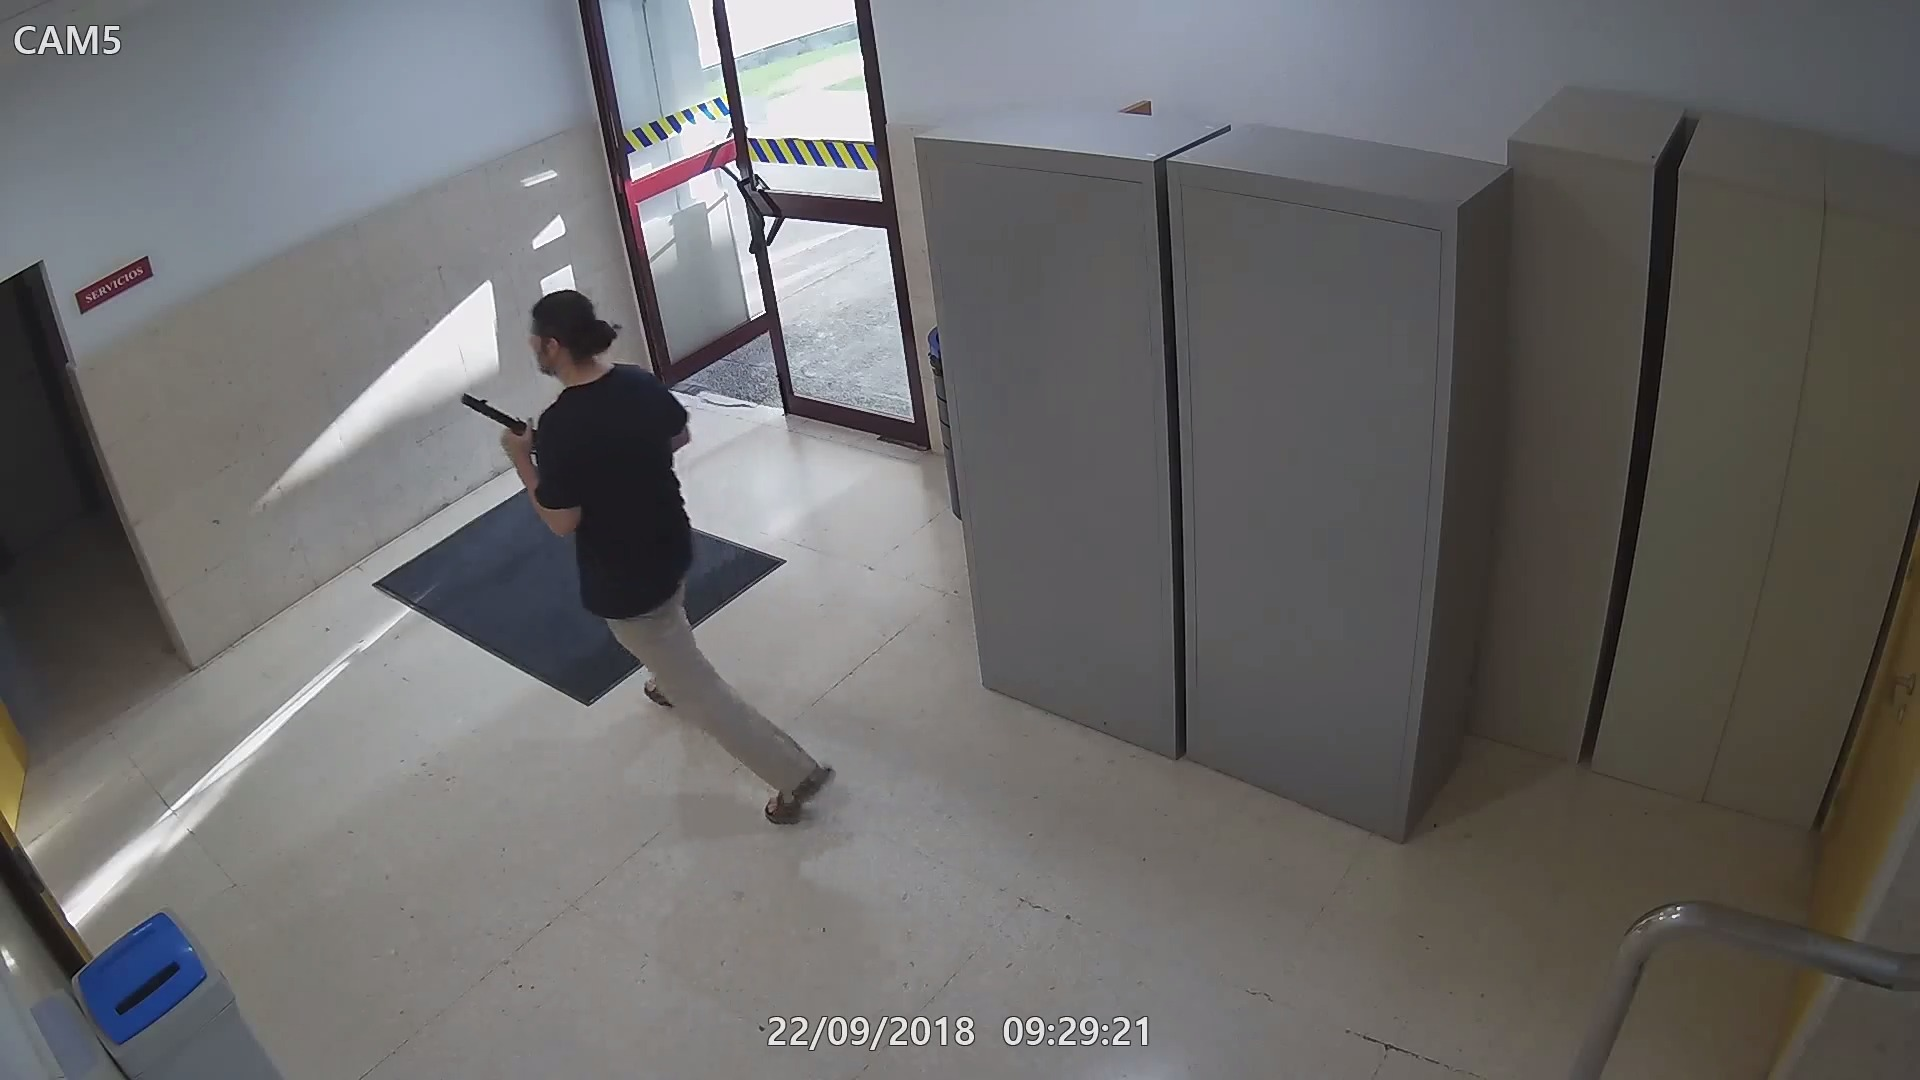Short_rifle: (452, 389, 549, 465)
